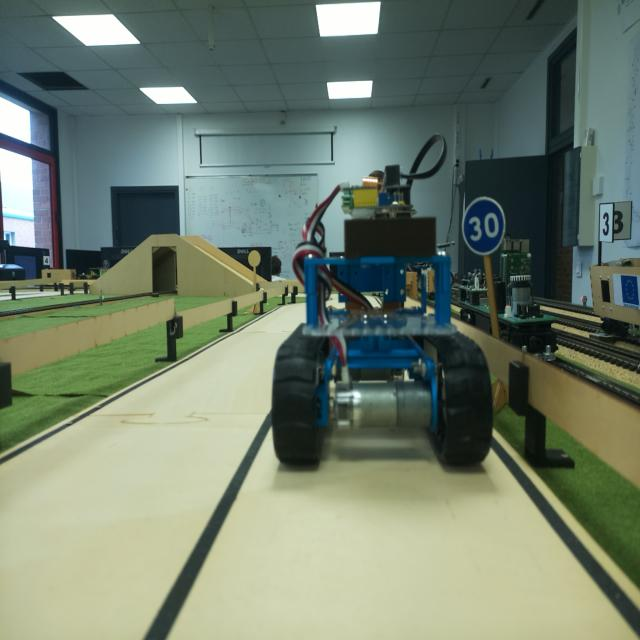obstacle_voiture: (263, 141, 496, 471)
panneau-limitation30: (462, 187, 509, 253)
